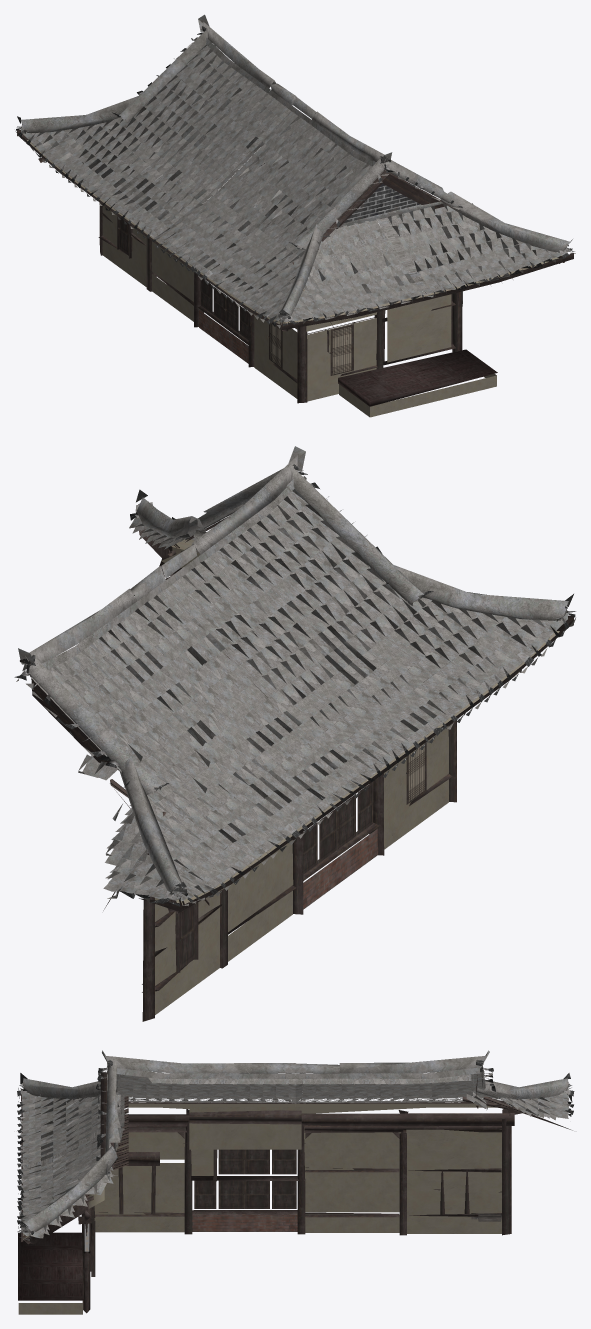
The model's file is gIENGLow!G3.fbx.
The picture shows the model from 3 angles, top to bottom: view 1: azimuth 30°, elevation 25°; view 2: azimuth 150°, elevation 25°; view 3: azimuth 270°, elevation 25°; orthographic projection. The views are drawn at different scales.
Visible parts, largest first — view 1: Sarangchae; view 2: Sarangchae; view 3: Sarangchae.
Part boxes in pixels (left/top/right/bottom): Sarangchae: left=15, top=14, right=575, bottom=417; Sarangchae: left=14, top=446, right=575, bottom=1021; Sarangchae: left=17, top=1050, right=574, bottom=1314.
Bounding box in the file's own units: 1203 × 852 × 1892.
